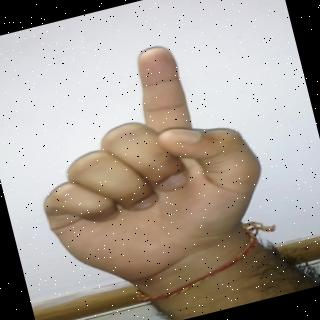I: (17, 27, 276, 294)
